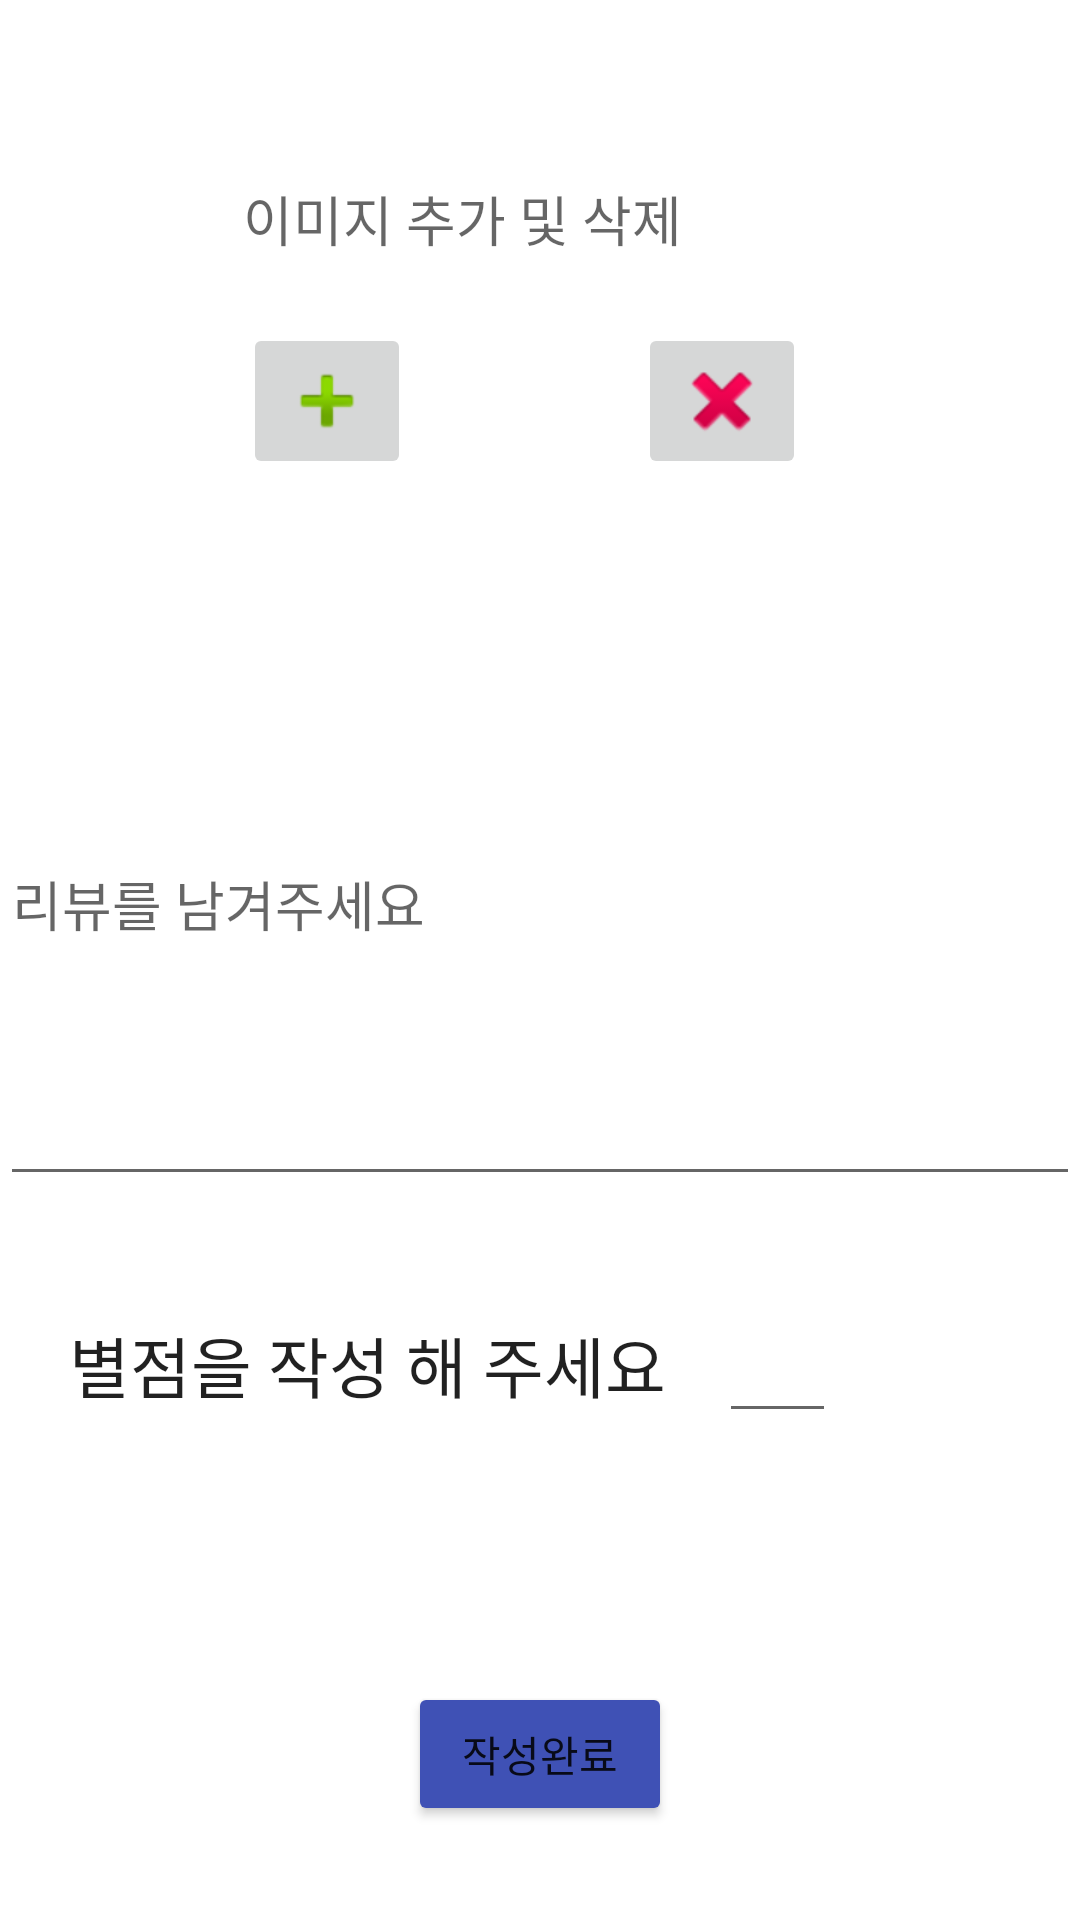

Icon bounding boxes for this 1080px×1920px phone screenshot, format (x1, y1, x2, y2):
add: (255, 341, 399, 461)
delete: (650, 341, 794, 461)
